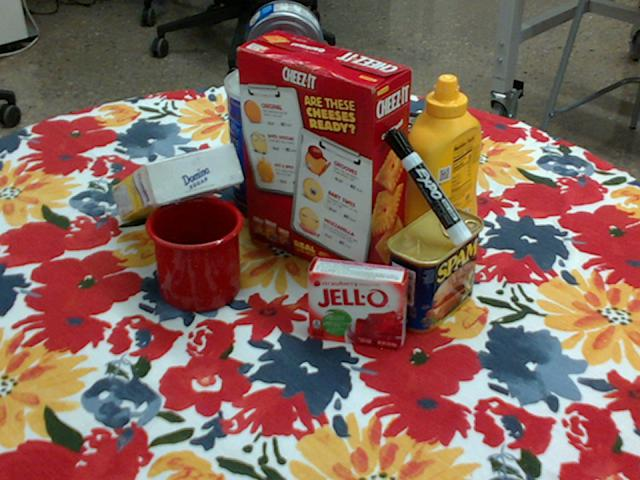cracker_box: (235, 30, 411, 286)
gelatin_box: (307, 256, 409, 350)
large_marker: (385, 127, 474, 245)
master_chef_can: (224, 63, 319, 215)
mug: (145, 196, 244, 311)
mustard_bottle: (402, 74, 483, 267)
potted_meat_can: (388, 205, 486, 334)
sugar_box: (110, 144, 243, 221)
tomato_soup_can: (372, 112, 436, 219)
tuna_fish_can: (243, 0, 323, 86)
